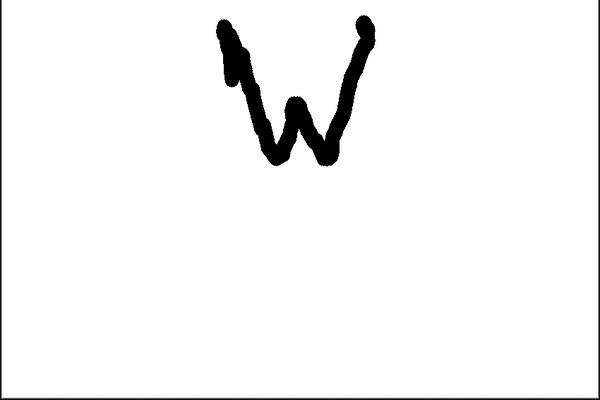w: (202, 10, 382, 174)
